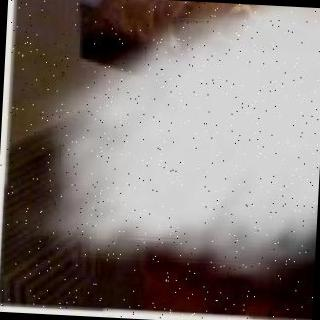smoke: (60, 0, 320, 280)
